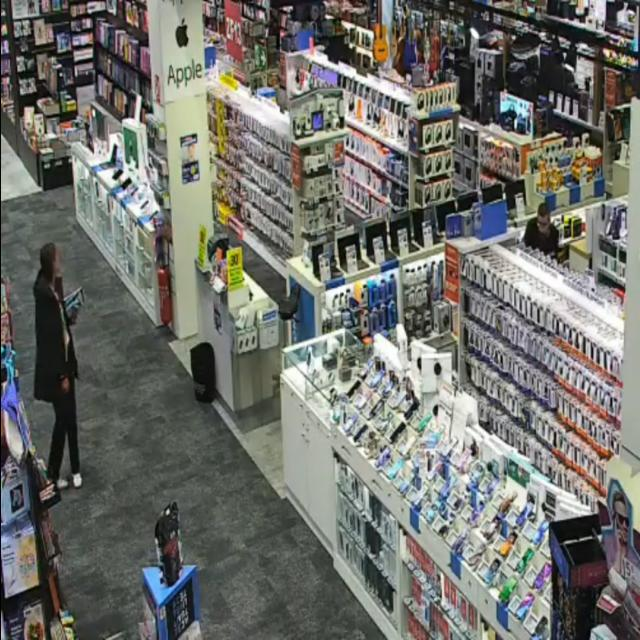article: (64, 286, 85, 306), (66, 297, 83, 321)
hands: (62, 377, 69, 393), (70, 310, 78, 324)
person: (33, 243, 81, 488), (523, 203, 559, 257)
